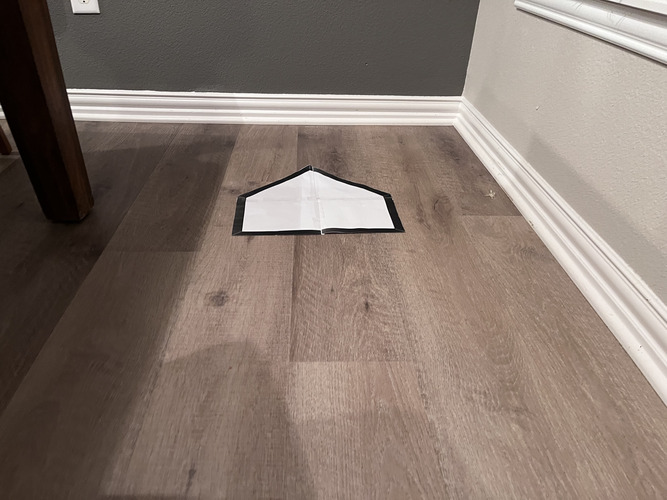homeplate: (230, 165, 405, 234)
